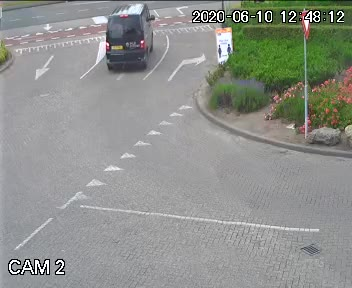car: (105, 2, 154, 80)
